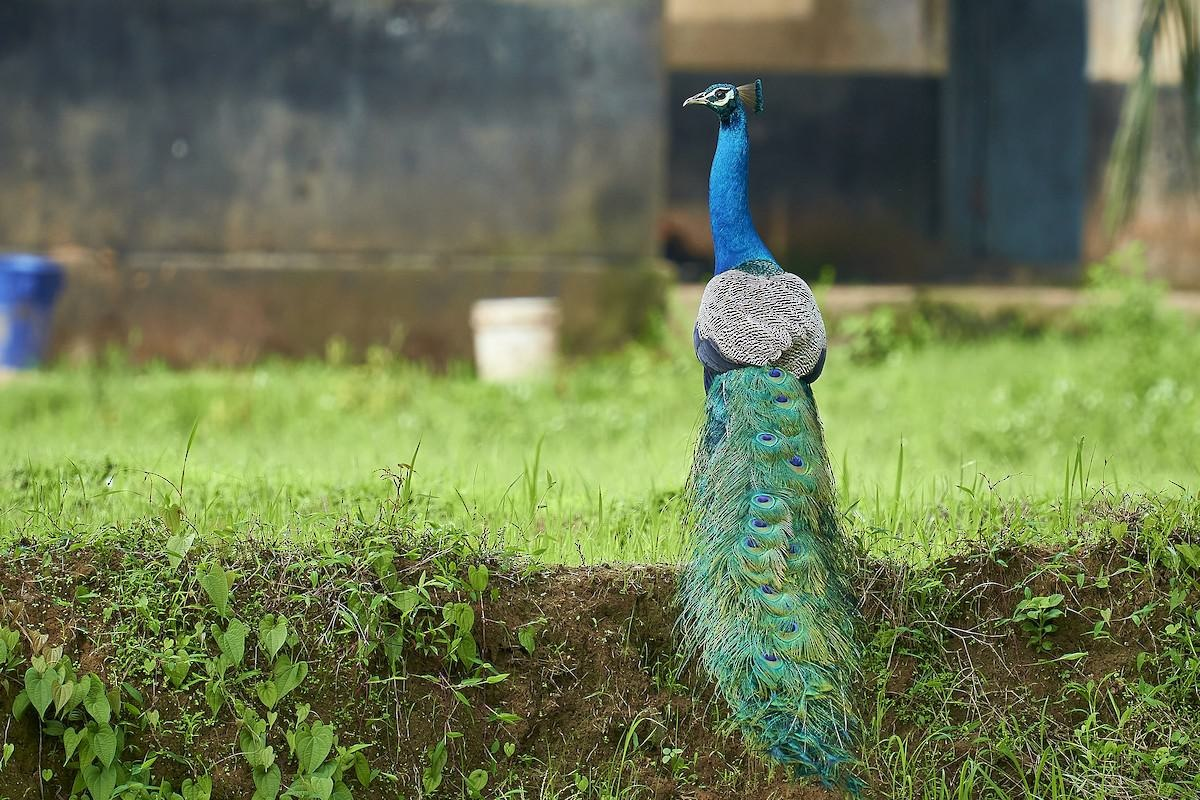peacock: (630, 37, 995, 782)
